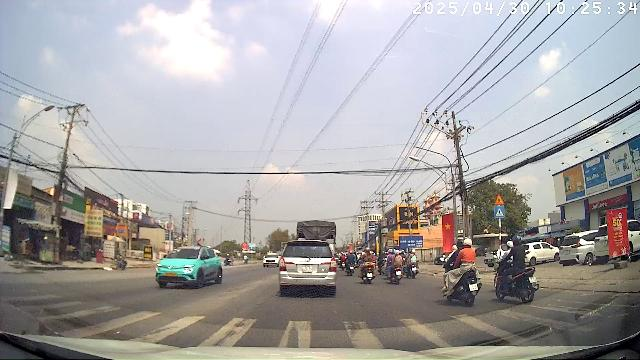423a-duong-nguoi-di-bo-sang-ngang-1: (495, 206, 505, 218)
